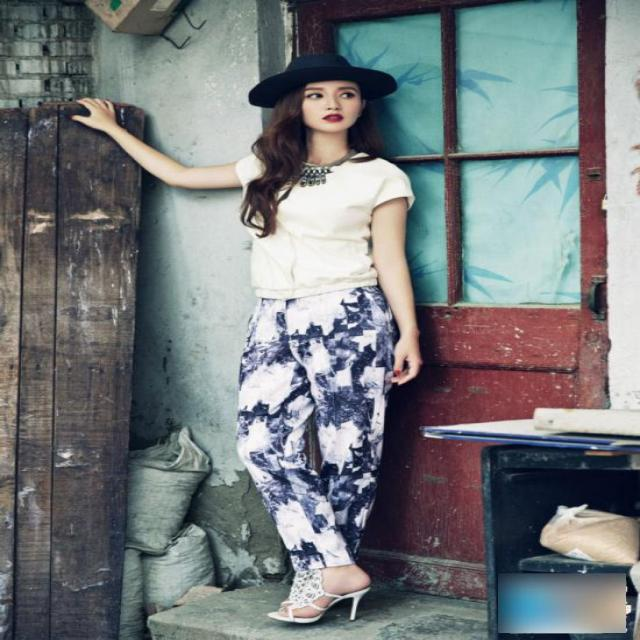Manusia: (164, 42, 438, 624)
